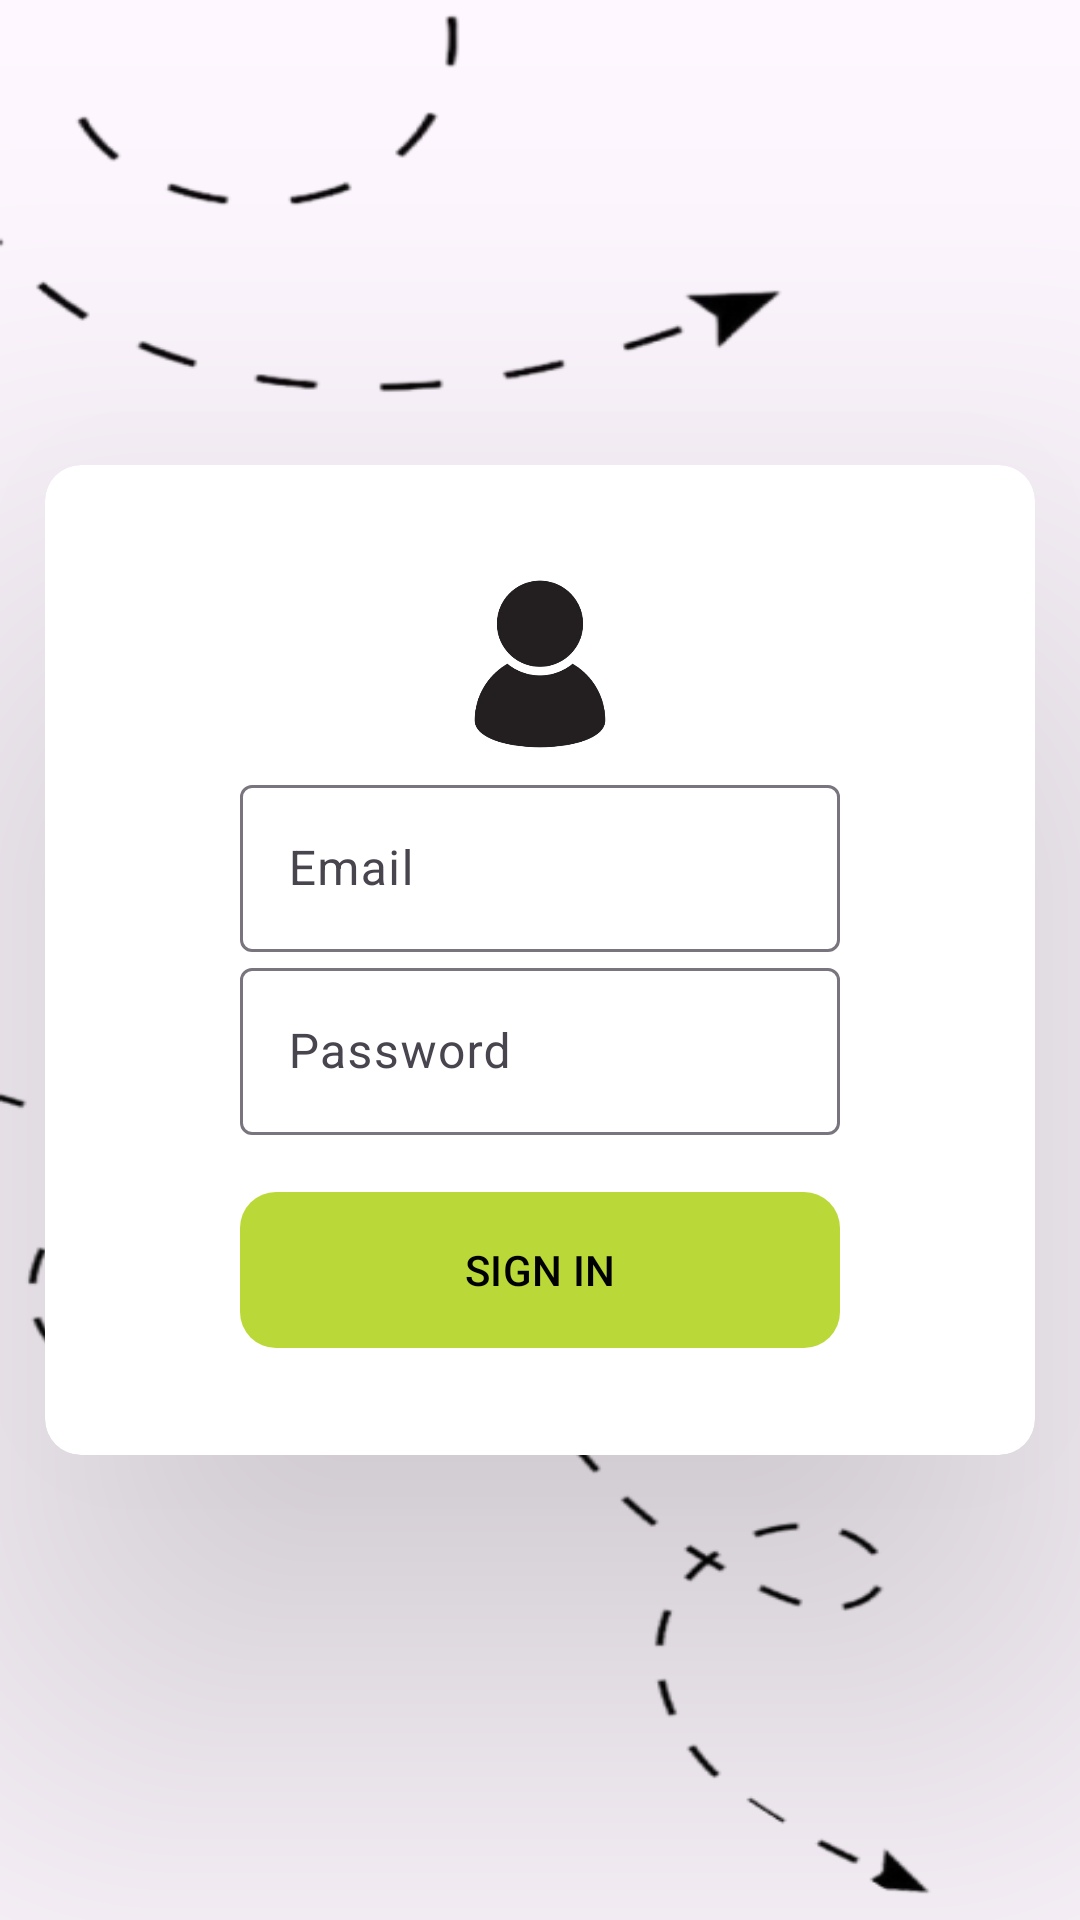

Where to tap for icons on this 1080 x 1920 app screen, as [x,y]:
vecteezy profile design: [540,664]
